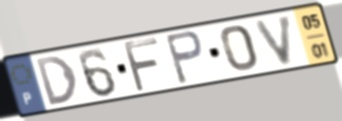0: (218, 24, 261, 73)
6: (77, 47, 119, 100)
D: (33, 53, 80, 108)
F: (120, 36, 162, 94)
P: (163, 29, 206, 86)
V: (252, 12, 295, 68)
